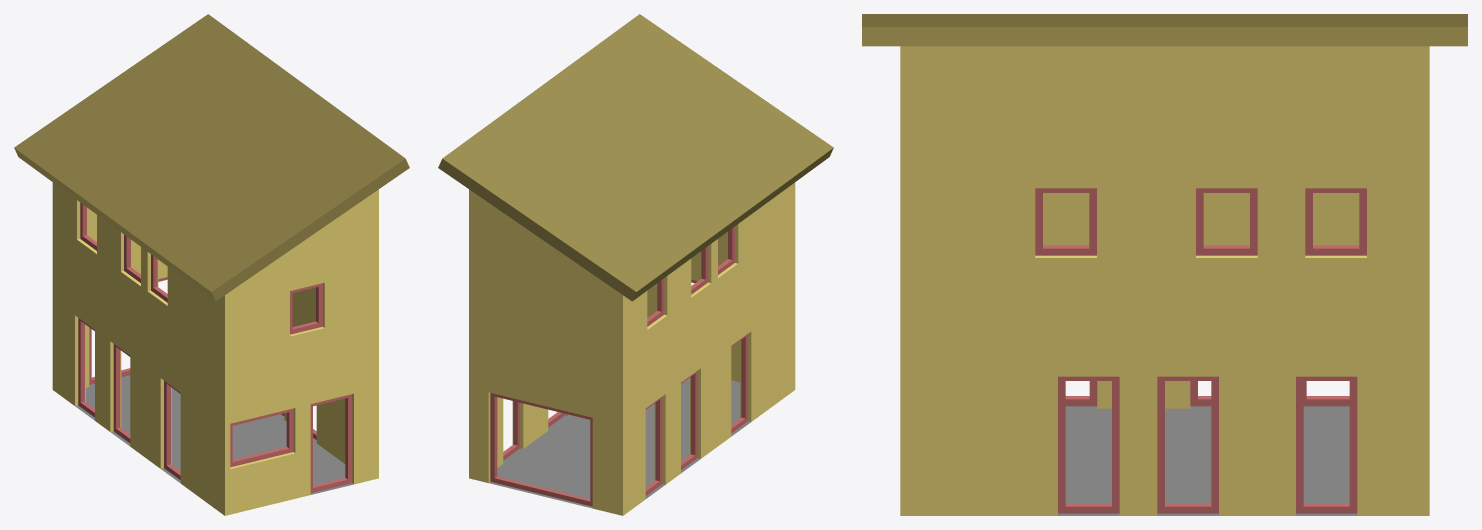
The model's file is result.glb.
3 renders of one model, left to right at view 1: azimuth 30°, elevation 25°; view 2: azimuth 150°, elevation 25°; view 3: azimuth 270°, elevation 25°, orthographic. The views are drawn at different scales.
Parts seen in each view (by area): view 1: c8b86a13-16fc-4082-b18a-306d2ae05904__undefined, 3b40c317-49c9-4f73-bd45-c550da56ca40__undefined, dd9eb0ed-c617-4ffa-aca7-f819368de99f__Plane_16, 0b821c3a-286c-4ae0-8049-67067c9be248__Box, f0659f62-b8a7-4ce5-8fec-67cdb383ba1a__Box_3, 3c38ac1a-c50d-4017-a9b3-777c7f6b6fb2__Box_15, d211d06d-ea68-4872-836b-6f868b68086f__Box_18, d4e4a97f-83f8-4179-b926-a7912083afcb__Box_12, 19e0874d-6741-4613-ad9b-a64b48b6bcba__Box_6; view 2: c8b86a13-16fc-4082-b18a-306d2ae05904__undefined, 3b40c317-49c9-4f73-bd45-c550da56ca40__undefined, dd9eb0ed-c617-4ffa-aca7-f819368de99f__Plane_16, 1202e5d3-4887-4e50-80f1-723b4fb3d1dc__Box_9, d211d06d-ea68-4872-836b-6f868b68086f__Box_18, d4e4a97f-83f8-4179-b926-a7912083afcb__Box_12, 3c38ac1a-c50d-4017-a9b3-777c7f6b6fb2__Box_15; view 3: c8b86a13-16fc-4082-b18a-306d2ae05904__undefined, 3b40c317-49c9-4f73-bd45-c550da56ca40__undefined, dd9eb0ed-c617-4ffa-aca7-f819368de99f__Plane_16, 02430812-0ed9-4af8-a211-dae3c9324382__Box_36, 885b0bf0-72c1-4c62-ac8f-4d87dda6e12e__Box_30, 7dd8e1d1-1d12-4ece-a8d1-cea979aba835__Box_33, a391670e-d328-4426-b86f-1b6f3e373c1c__Box_39, 5f4746fa-0948-467f-b23d-b160790e1fe8__Box_42, 08101f84-9eb6-4efb-9ce7-e87319767929__Box_45.
Boxes of the visible parts, x1,y1,x2,y2 form: c8b86a13-16fc-4082-b18a-306d2ae05904__undefined: [52, 182, 378, 515]; 3b40c317-49c9-4f73-bd45-c550da56ca40__undefined: [14, 14, 409, 301]; dd9eb0ed-c617-4ffa-aca7-f819368de99f__Plane_16: [75, 375, 353, 494]; 0b821c3a-286c-4ae0-8049-67067c9be248__Box: [310, 394, 352, 492]; f0659f62-b8a7-4ce5-8fec-67cdb383ba1a__Box_3: [230, 408, 293, 467]; 3c38ac1a-c50d-4017-a9b3-777c7f6b6fb2__Box_15: [113, 344, 130, 442]; d211d06d-ea68-4872-836b-6f868b68086f__Box_18: [78, 318, 94, 417]; d4e4a97f-83f8-4179-b926-a7912083afcb__Box_12: [164, 381, 180, 479]; 19e0874d-6741-4613-ad9b-a64b48b6bcba__Box_6: [290, 283, 322, 334]; c8b86a13-16fc-4082-b18a-306d2ae05904__undefined: [469, 182, 795, 515]; 3b40c317-49c9-4f73-bd45-c550da56ca40__undefined: [438, 14, 833, 301]; dd9eb0ed-c617-4ffa-aca7-f819368de99f__Plane_16: [489, 378, 750, 508]; 1202e5d3-4887-4e50-80f1-723b4fb3d1dc__Box_9: [490, 393, 592, 506]; d211d06d-ea68-4872-836b-6f868b68086f__Box_18: [645, 397, 662, 495]; d4e4a97f-83f8-4179-b926-a7912083afcb__Box_12: [731, 334, 747, 433]; 3c38ac1a-c50d-4017-a9b3-777c7f6b6fb2__Box_15: [681, 371, 697, 469]; c8b86a13-16fc-4082-b18a-306d2ae05904__undefined: [900, 46, 1429, 515]; 3b40c317-49c9-4f73-bd45-c550da56ca40__undefined: [862, 14, 1467, 46]; dd9eb0ed-c617-4ffa-aca7-f819368de99f__Plane_16: [1058, 406, 1357, 515]; 02430812-0ed9-4af8-a211-dae3c9324382__Box_36: [1296, 376, 1357, 513]; 885b0bf0-72c1-4c62-ac8f-4d87dda6e12e__Box_30: [1058, 376, 1119, 513]; 7dd8e1d1-1d12-4ece-a8d1-cea979aba835__Box_33: [1157, 376, 1218, 513]; a391670e-d328-4426-b86f-1b6f3e373c1c__Box_39: [1035, 188, 1096, 255]; 5f4746fa-0948-467f-b23d-b160790e1fe8__Box_42: [1196, 188, 1257, 255]; 08101f84-9eb6-4efb-9ce7-e87319767929__Box_45: [1305, 188, 1366, 255].
Size of the model in its own units: 457 by 717 by 788.
